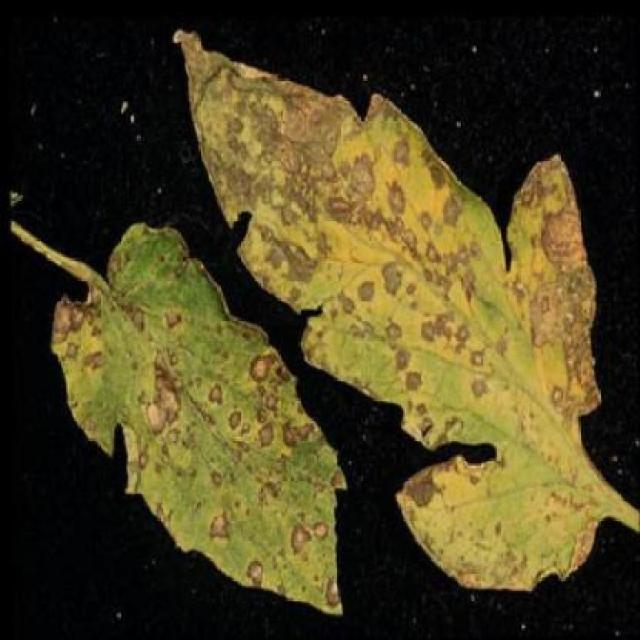Septoria leaf spot: (169, 26, 607, 593), (41, 227, 353, 624)
